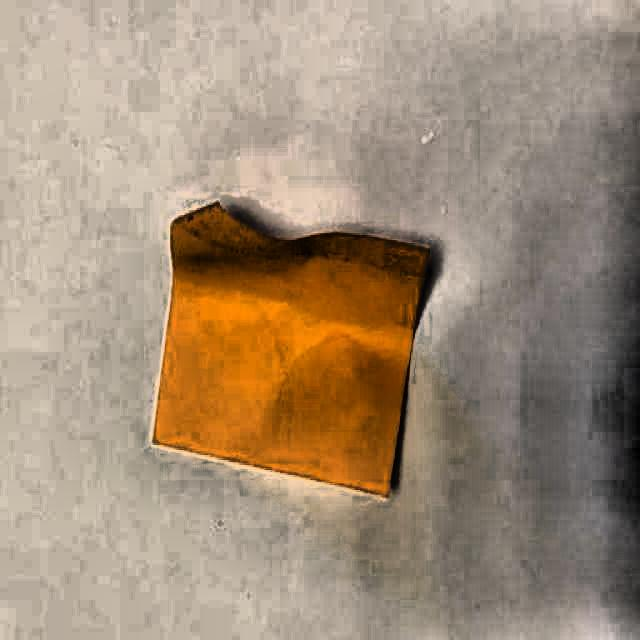Paper: (151, 200, 429, 497)
